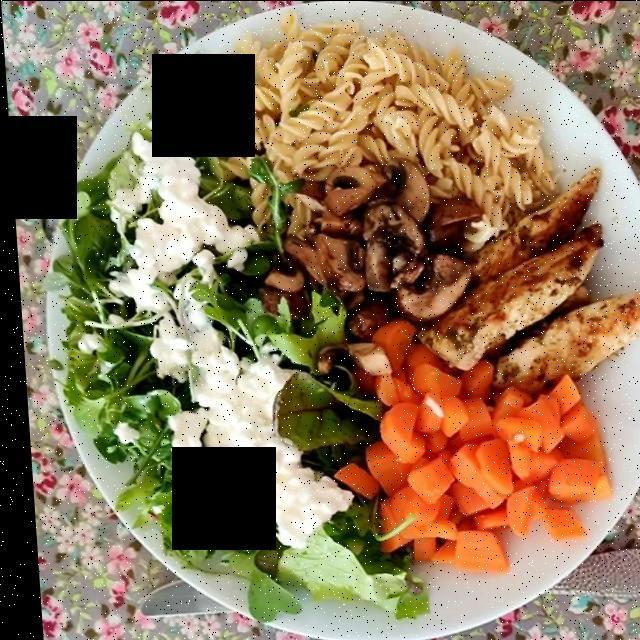carrot: (353, 334, 591, 559)
cheese: (109, 141, 347, 552)
chicken: (426, 162, 640, 379)
mushroom: (253, 163, 470, 314)
pasta: (208, 18, 545, 239)
salad: (56, 58, 418, 608)
